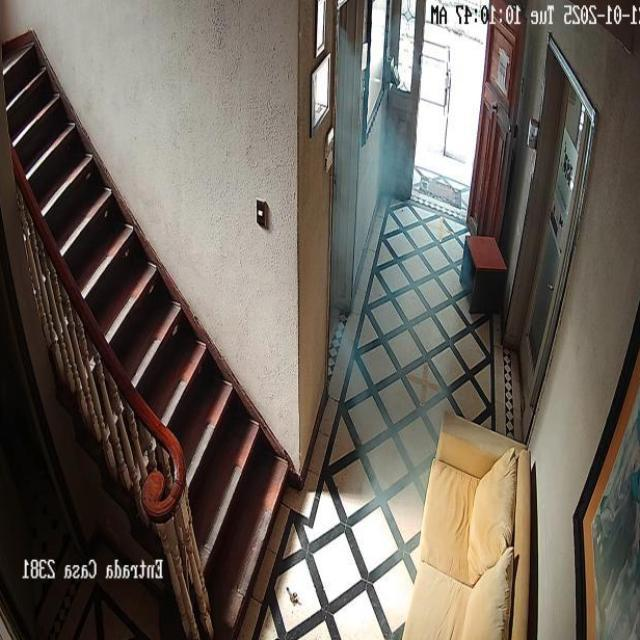fire: (332, 13, 462, 584)
